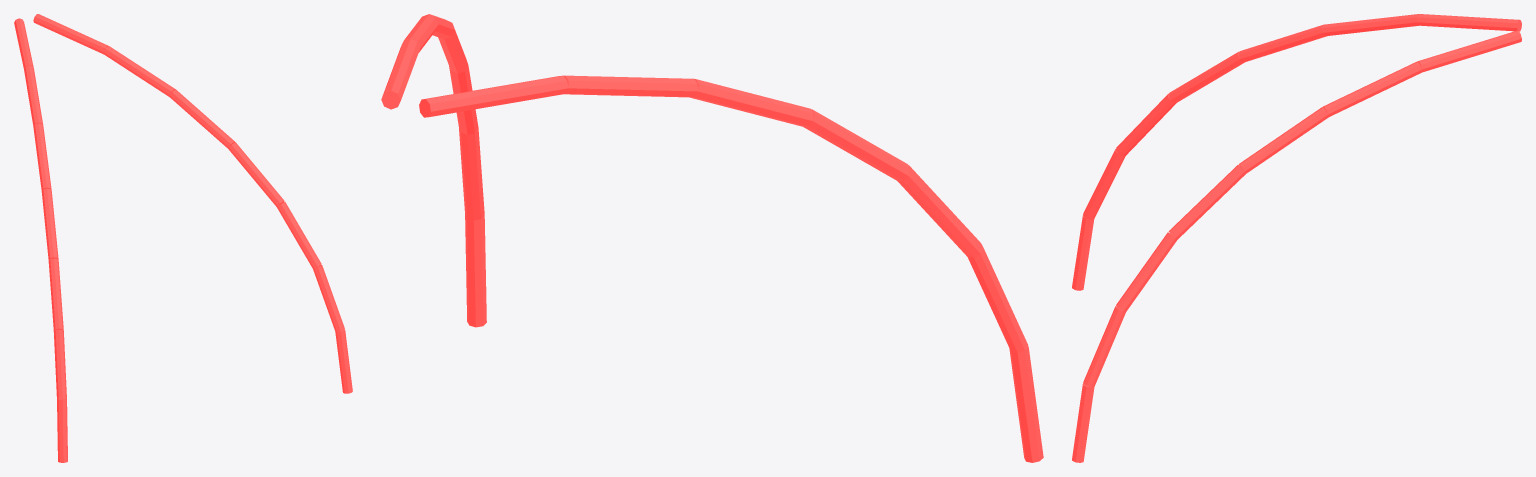
File: shutter_lights.glb
3 views of the same model, side by side, from view 1: azimuth 30°, elevation 25°; view 2: azimuth 150°, elevation 25°; view 3: azimuth 270°, elevation 25° (orthographic). The views are drawn at different scales.
Visible parts, largest first — view 1: shutter_lights.001; view 2: shutter_lights.001; view 3: shutter_lights.001.
Part boxes in pixels (<box>): shutter_lights.001: <box>14,14,352,462</box>; shutter_lights.001: <box>381,14,1043,462</box>; shutter_lights.001: <box>1072,14,1521,462</box>.
Size of the model in its own units: 9.47 by 8.69 by 10.14.
